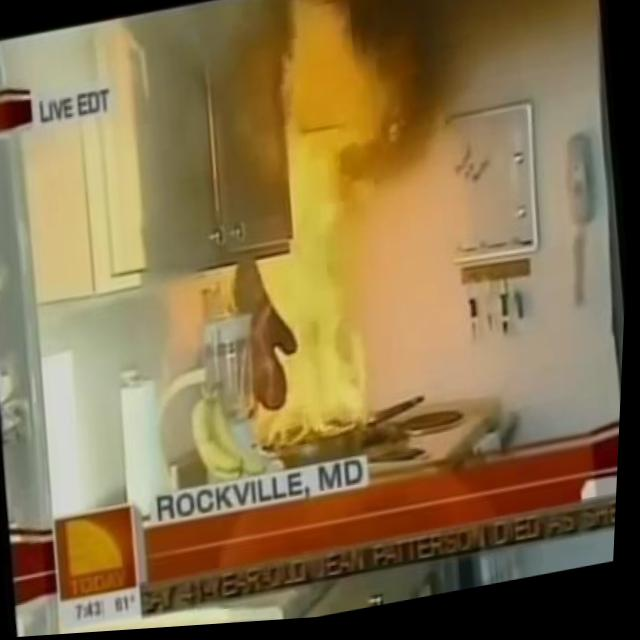fire: (237, 136, 384, 454)
